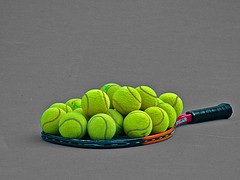tennis ball: (123, 109, 155, 140), (81, 87, 113, 116), (111, 85, 143, 114), (87, 112, 117, 142), (40, 107, 71, 136), (58, 110, 89, 139), (157, 91, 186, 120), (143, 104, 171, 133), (132, 84, 160, 112)
